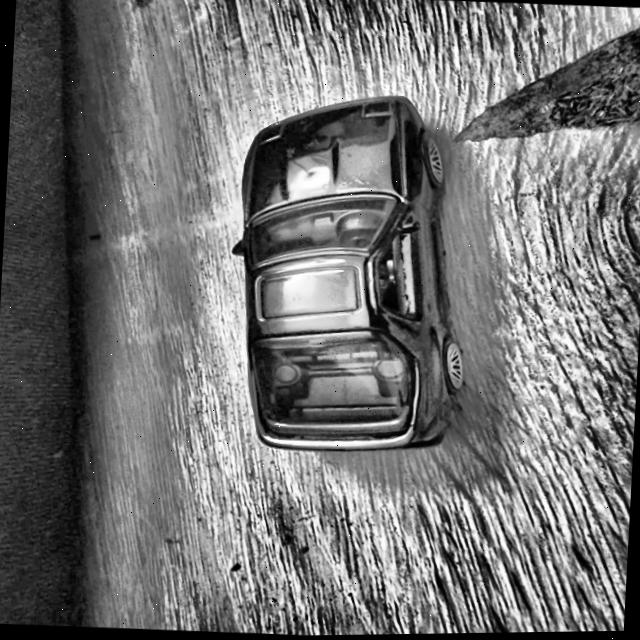car: (221, 87, 477, 460)
